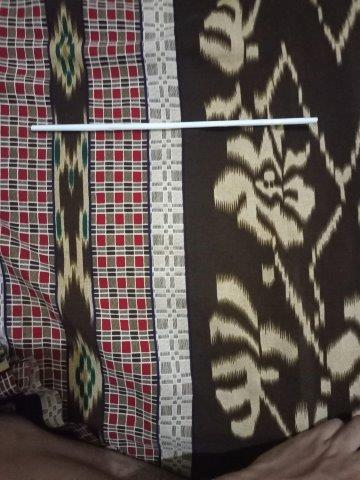sedotan: (31, 117, 318, 132)
